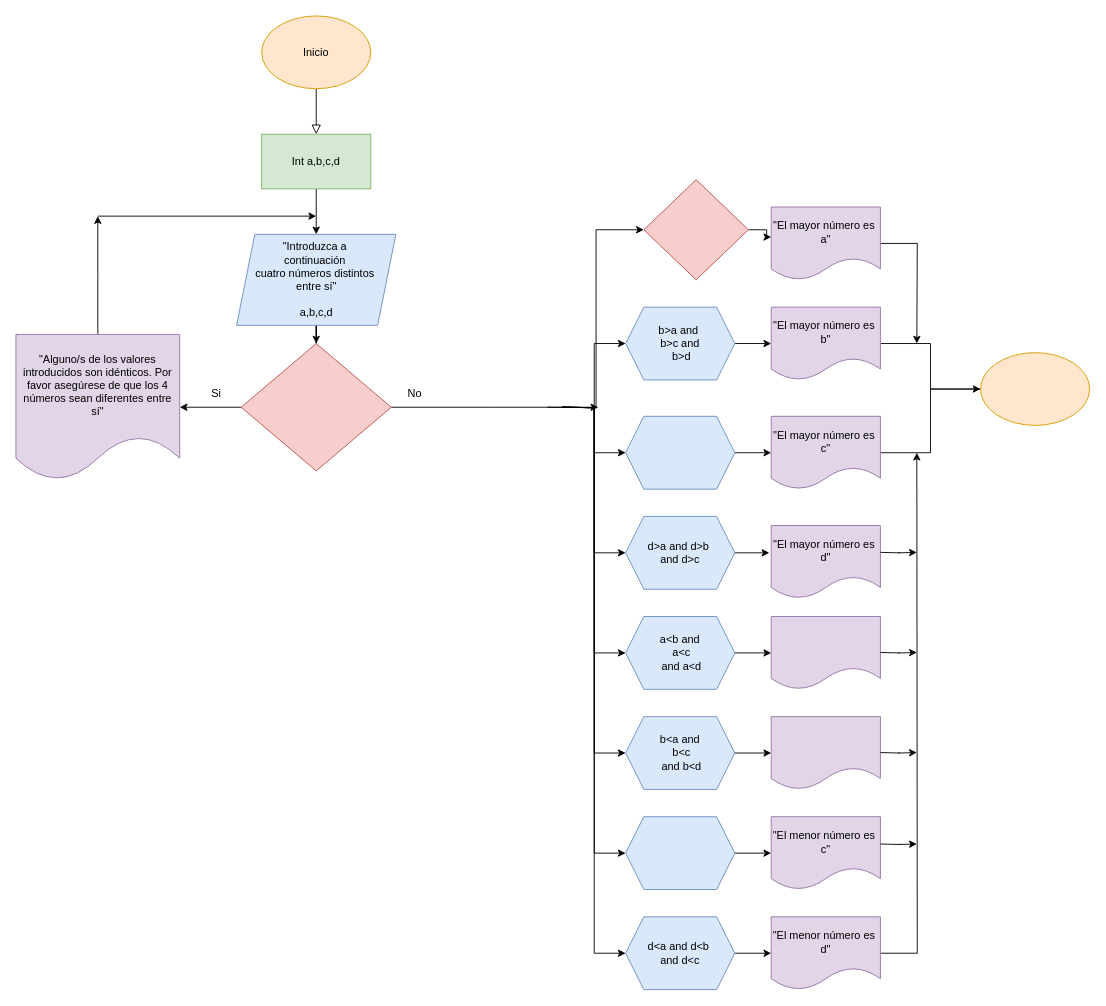
The diagram is 1106 pixels wide and 1006 high, and some of its shapes have lost their labels. The box of each missing label's shape, as (x1, y1, x2, y2) in pixels:
"El menor número es a": (770, 616, 880, 689)
"El menor número es b": (770, 716, 880, 789)
a=b or a=c or a=d or b=c or b=d or c=d: (240, 343, 391, 471)
a>b and a>c and a>d: (643, 179, 748, 280)
c<a and c<b and c<d: (625, 816, 735, 890)
c>a and c>b and c>d: (625, 415, 735, 489)
Final: (980, 352, 1090, 425)
